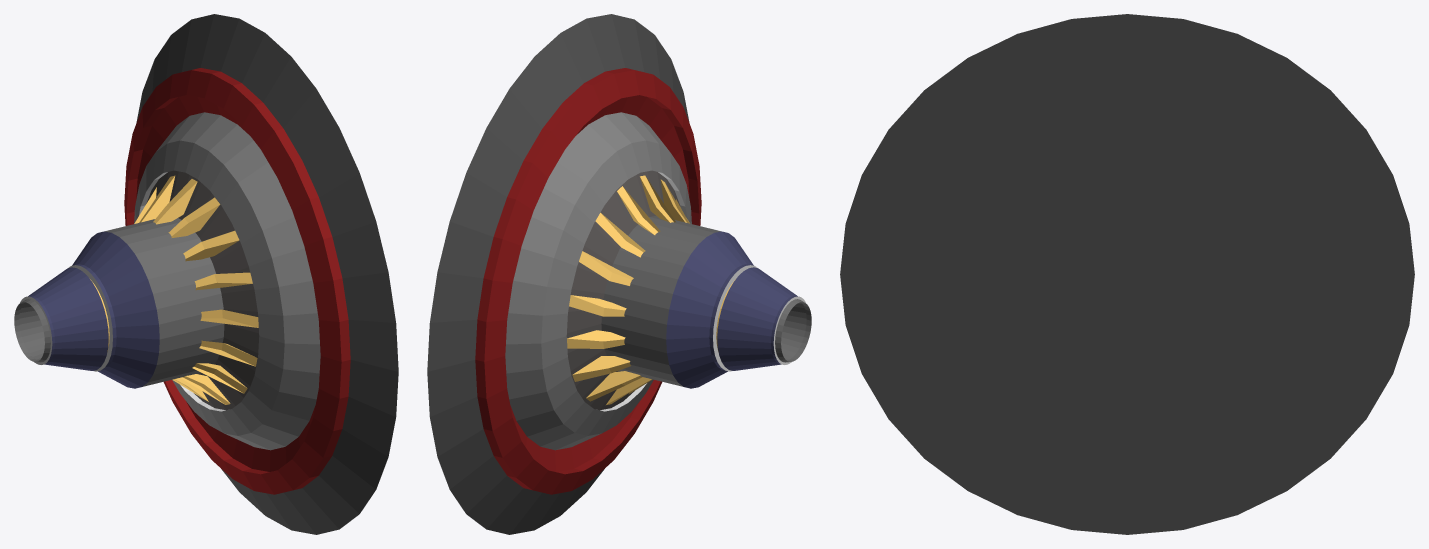
The model's file is Super_Collider.fbx.
The picture shows the model from 3 angles, left to right: view 1: azimuth 30°, elevation 25°; view 2: azimuth 150°, elevation 25°; view 3: azimuth 270°, elevation 25°; orthographic projection. The views are drawn at different scales.
Parts seen in each view (by area): view 1: Circle.002; view 2: Circle.002; view 3: Circle.002.
Boxes of the visible parts, left/top/right/bottom form: Circle.002: left=14, top=14, right=398, bottom=534; Circle.002: left=427, top=14, right=811, bottom=534; Circle.002: left=840, top=14, right=1414, bottom=534.
Size of the model in its own units: 983 by 1924 by 1924.
